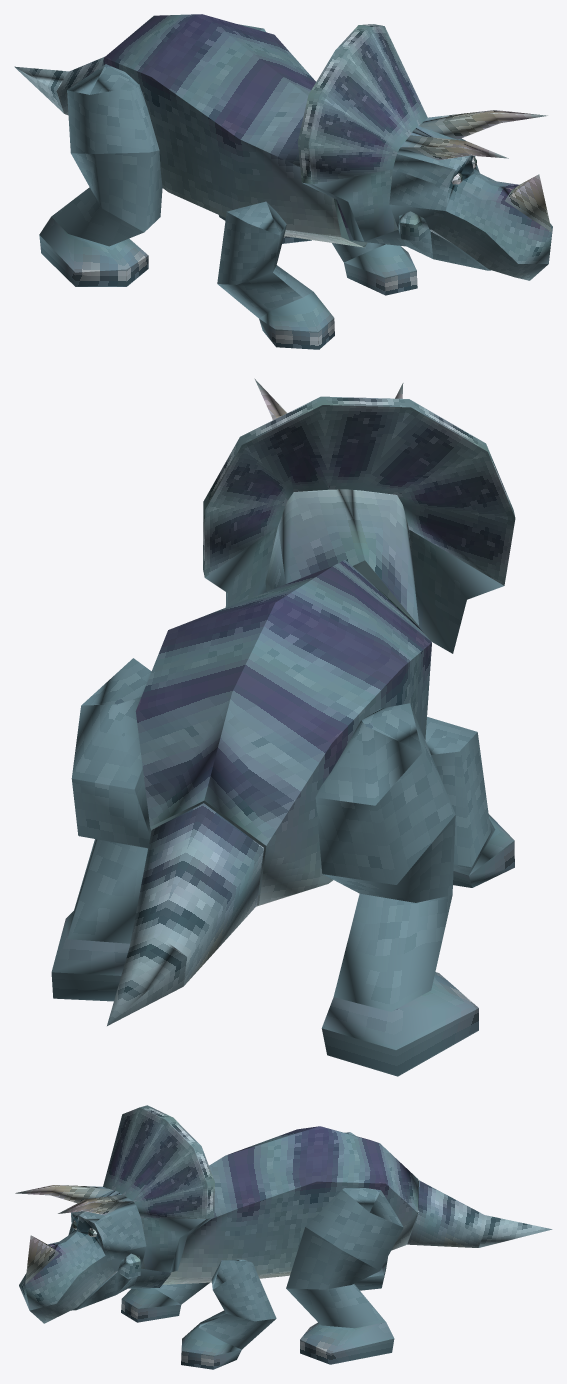
File: trixie.glb
The picture shows the model from 3 angles, top to bottom: view 1: azimuth 30°, elevation 25°; view 2: azimuth 150°, elevation 25°; view 3: azimuth 270°, elevation 25°; orthographic projection. The views are drawn at different scales.
Visible parts, largest first — view 1: Object_2; view 2: Object_2; view 3: Object_2.
Part boxes in pixels (x1=…): Object_2: x1=14, y1=14, x2=552, y2=349; Object_2: x1=51, y1=378, x2=515, y2=1076; Object_2: x1=15, y1=1105, x2=552, y2=1369.
Bounding box in the file's own units: 0.325 × 0.2819 × 0.6168.
1 material, 1 textured.
